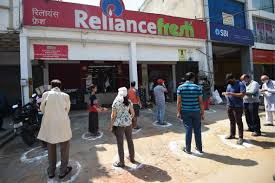Social Distance: (30, 75, 263, 165)
